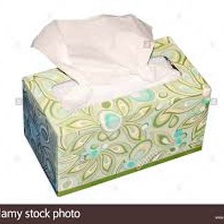book: (15, 30, 216, 201)
tissue: (25, 9, 160, 91)
